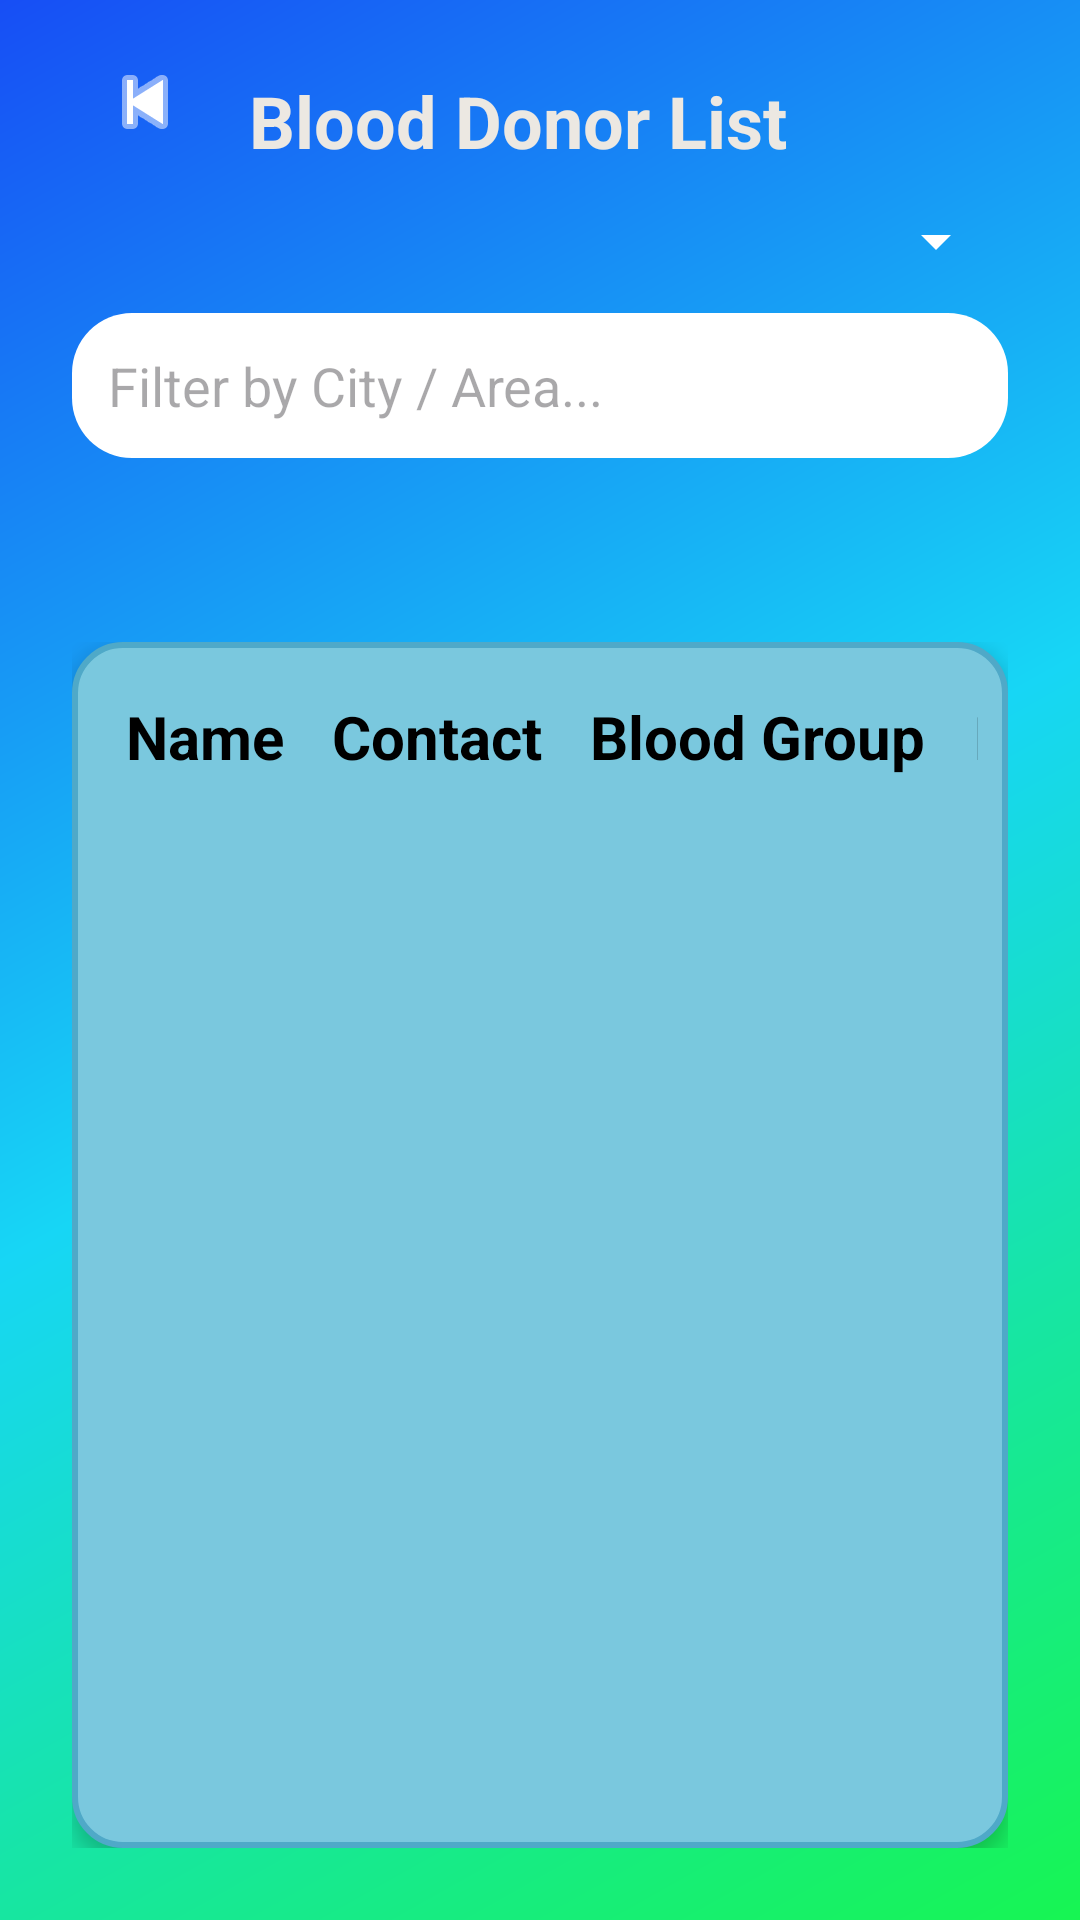

Icon bounding boxes for this 1080×1920 phone screenshot, format (left=x1, top=y1, right=x2, bottom=y2):
Back: (left=122, top=75, right=168, bottom=129)
